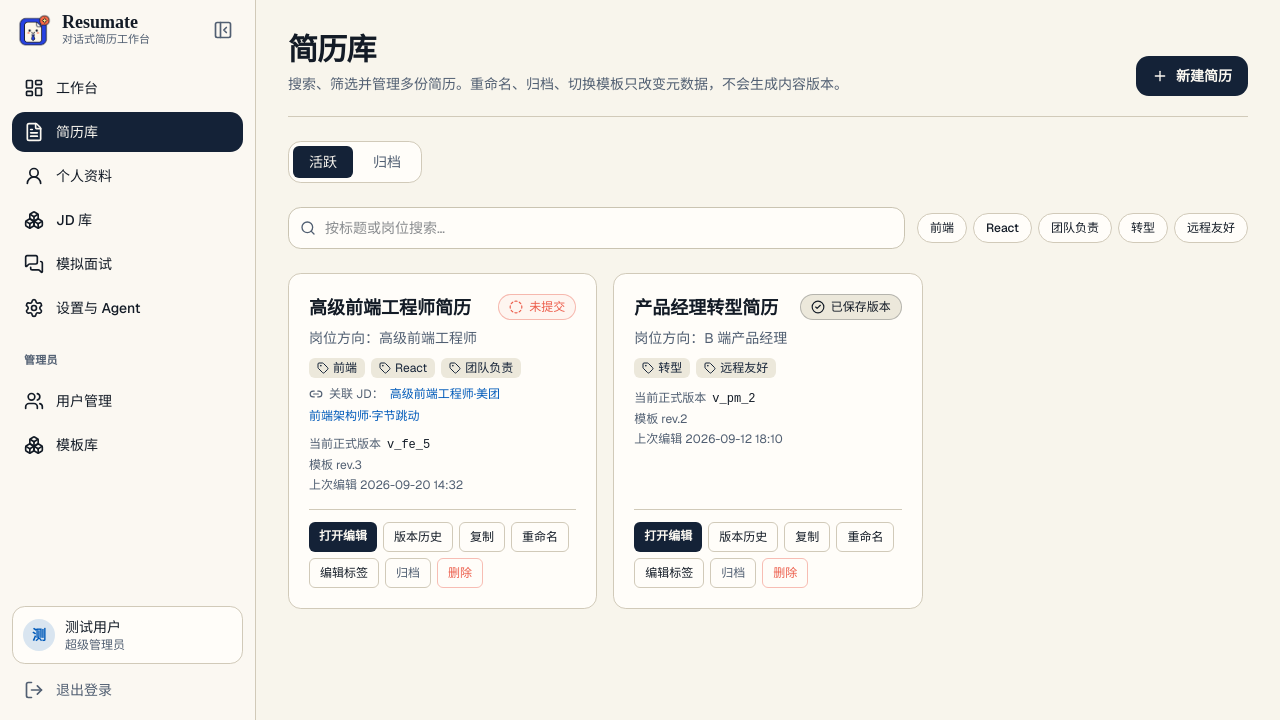
Scenario: 简历库卡片：删除入口与确认弹窗 › 删除先弹确认，取消不删；确认后 DELETE 并从列表消失
Click the button "删除" below "高级前端工程师简历".
click(460, 573)  # box x1=437 y1=558 x2=483 y2=588
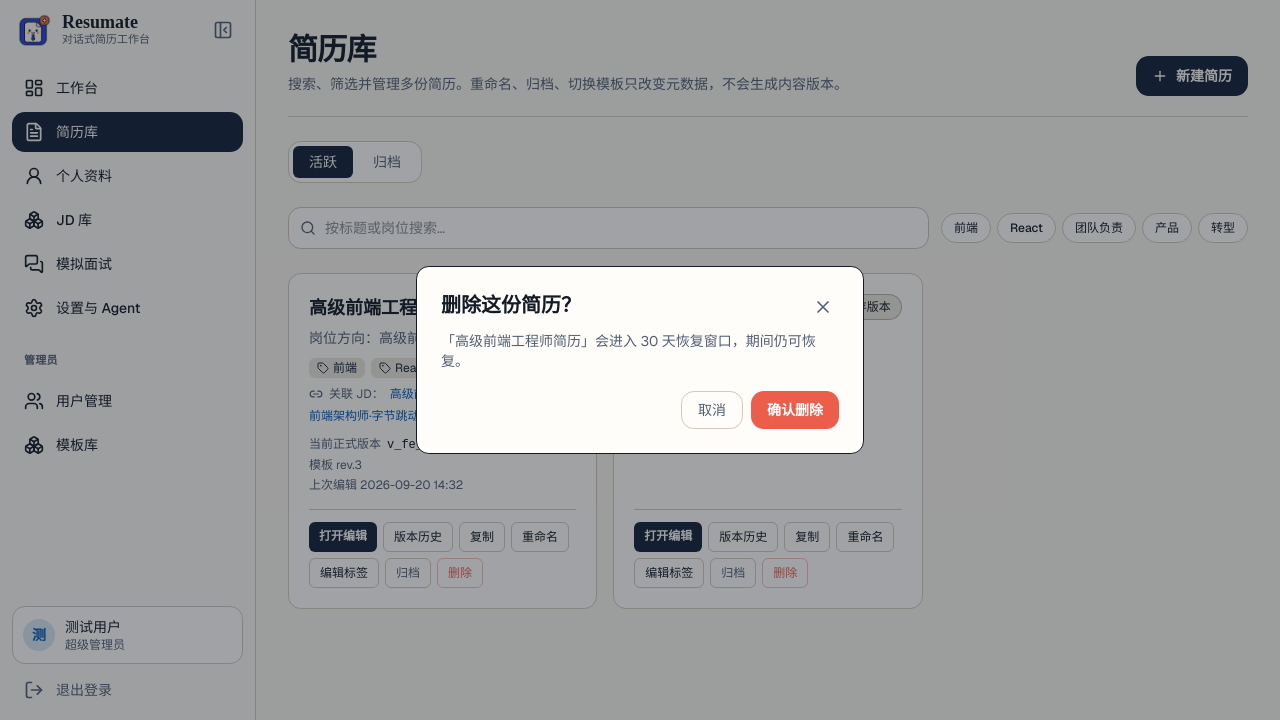
Expected: the text "「高级前端工程师简历」会进入 30 天恢复窗口，期间仍可恢复。" is shown, x1=441 y1=331 x2=839 y2=371
Click the button "取消".
click(712, 410)  # box x1=681 y1=391 x2=743 y2=429
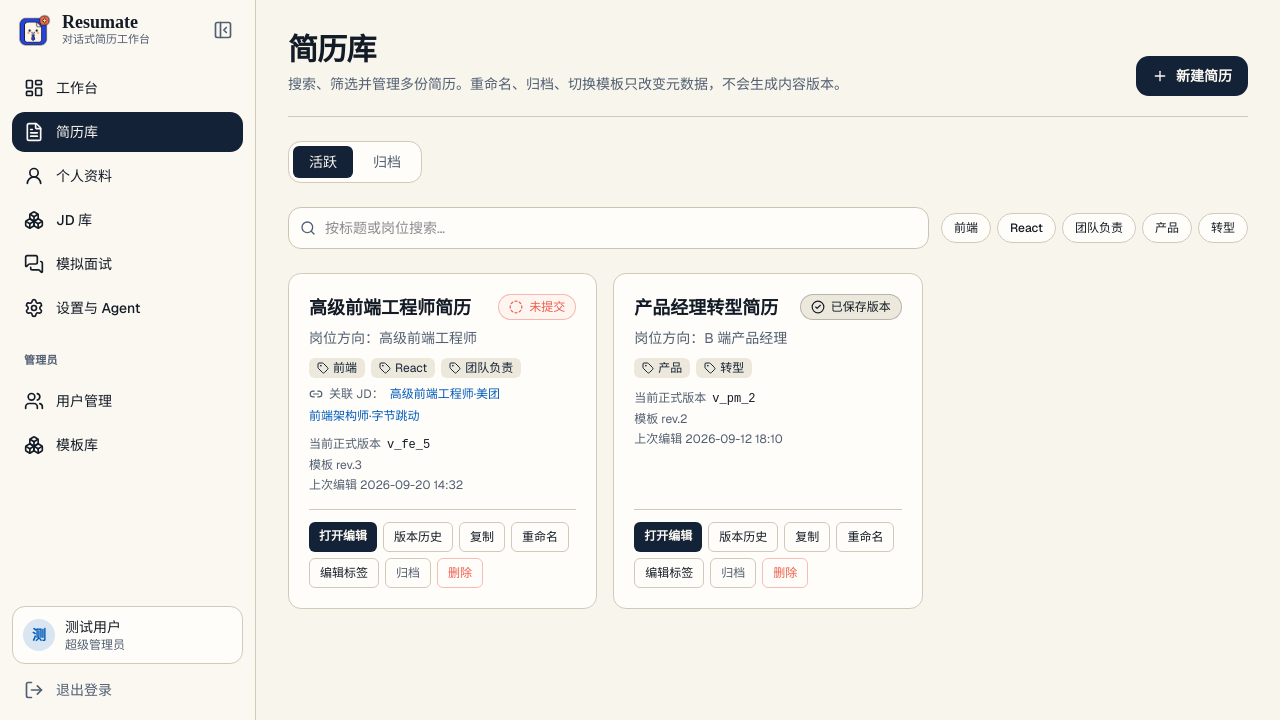
Expected: the link "高级前端工程师简历" is shown, x1=309 y1=298 x2=471 y2=318
Expected: the heading "删除这份简历？" is gone
Click the button "删除" below "高级前端工程师简历".
click(460, 573)  # box x1=437 y1=558 x2=483 y2=588
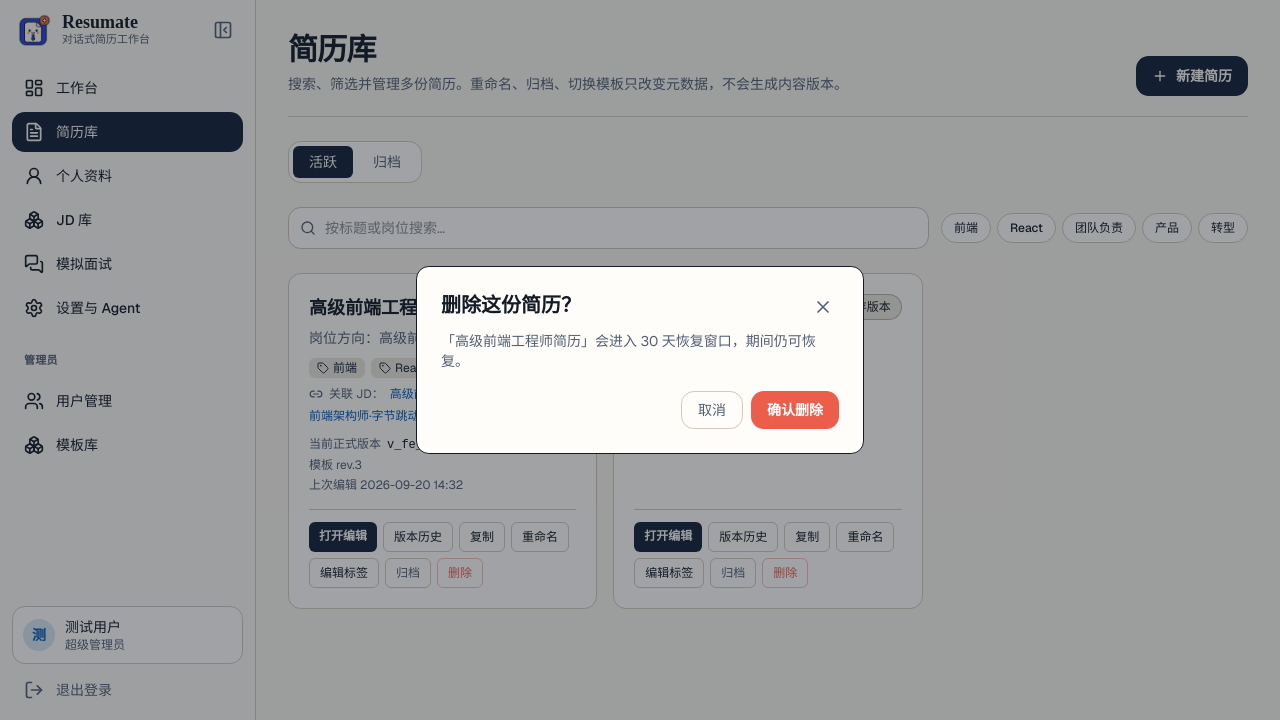
Click the button "确认删除".
click(795, 410)  # box x1=751 y1=391 x2=839 y2=429
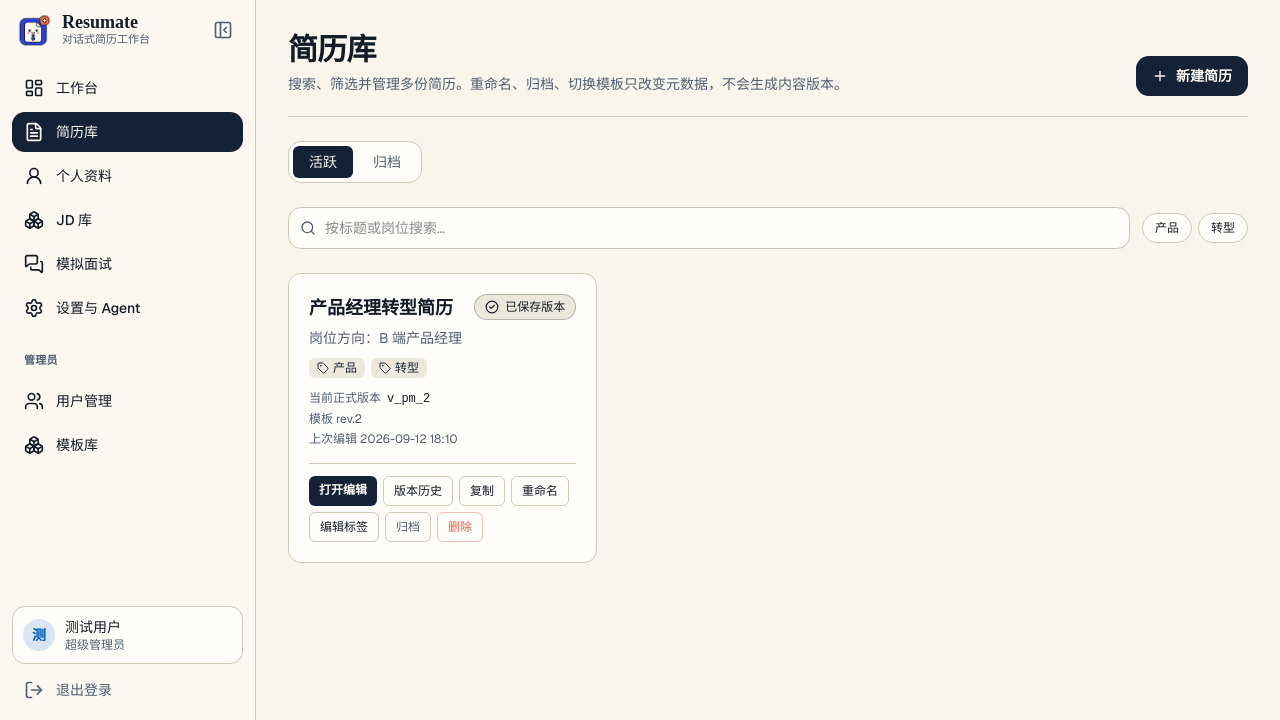
Expected: the link "高级前端工程师简历" is gone
